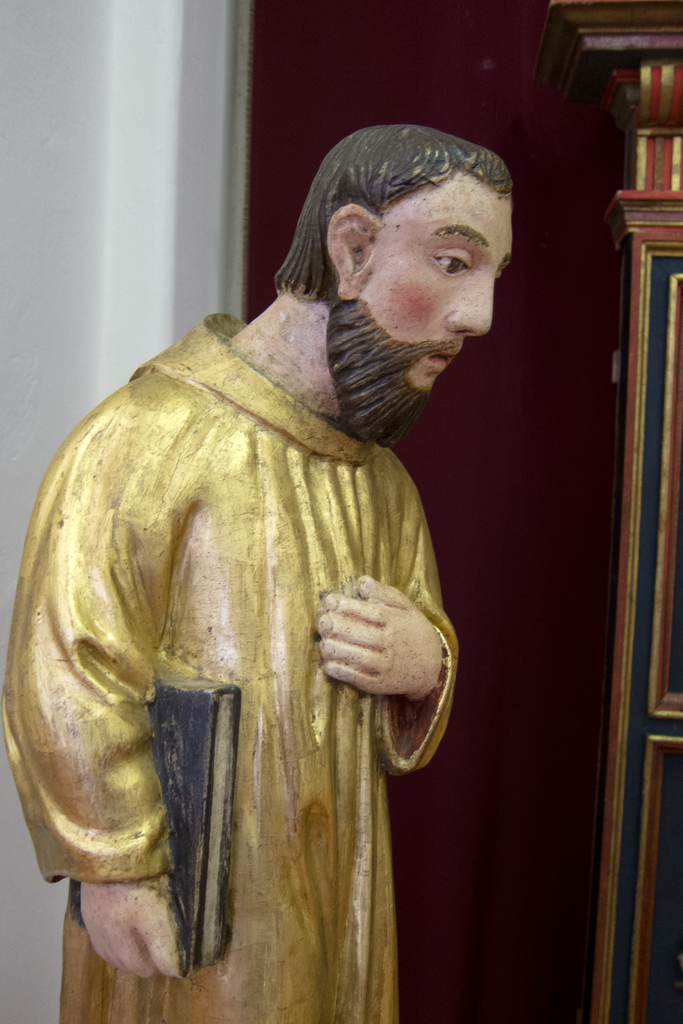face: (369, 163, 512, 434)
